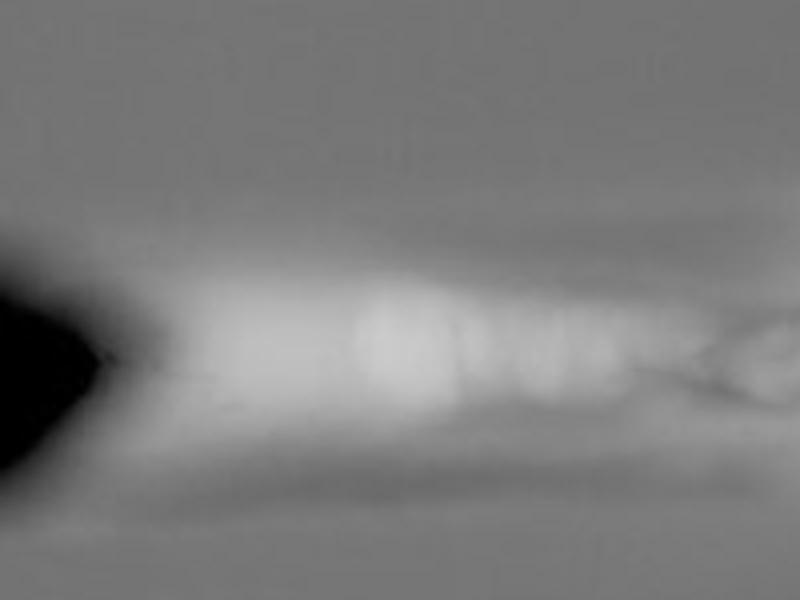defect: (1, 267, 99, 485)
